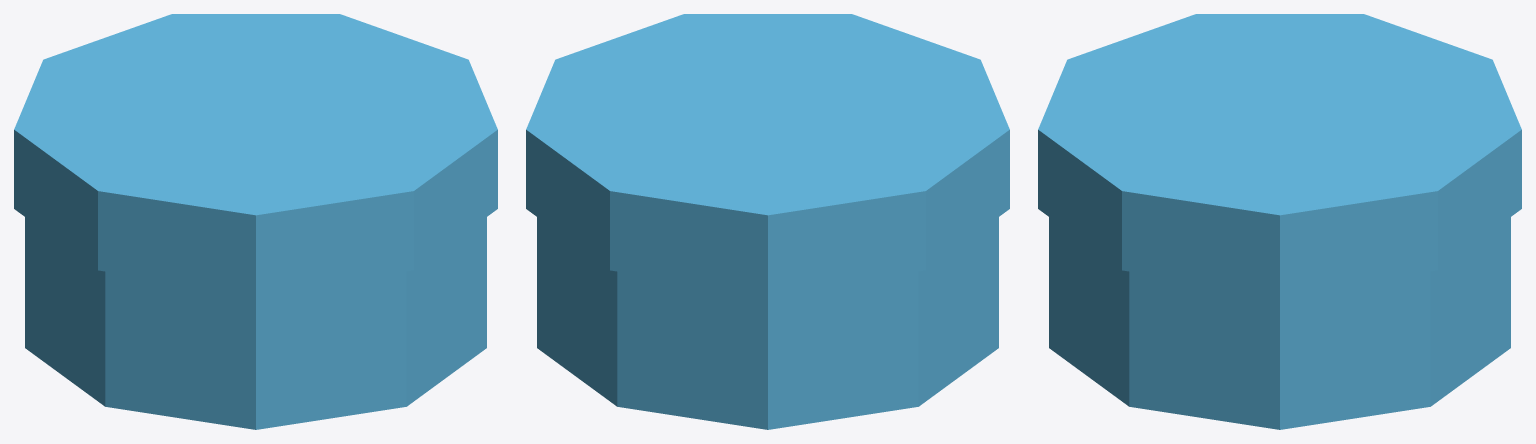
The model's file is Office2_box_6.fbx.
3 views of the same model, side by side, from view 1: azimuth 30°, elevation 25°; view 2: azimuth 150°, elevation 25°; view 3: azimuth 270°, elevation 25° (orthographic).
Parts seen in each view (by area): view 1: Office2_box_6; view 2: Office2_box_6; view 3: Office2_box_6.
Boxes of the visible parts, left/top/right/bottom form: Office2_box_6: left=14, top=14, right=497, bottom=429; Office2_box_6: left=526, top=14, right=1009, bottom=429; Office2_box_6: left=1038, top=14, right=1521, bottom=429.
Bounding box in the file's own units: 11.05 × 5.61 × 11.22.
